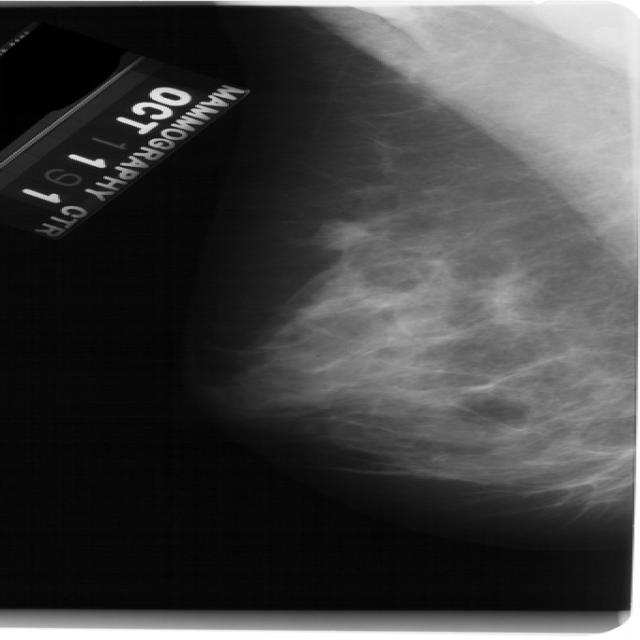tumour: (310, 218, 366, 250)
